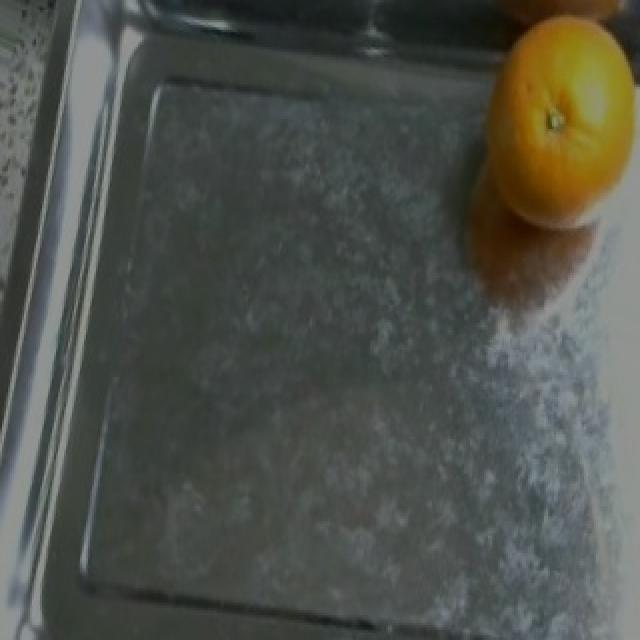Fruit: (448, 2, 638, 256)
